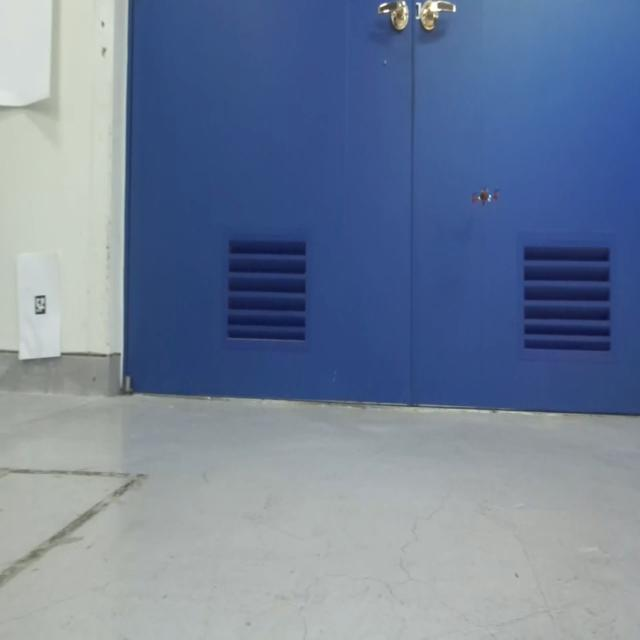crazyflie: (468, 182, 501, 210)
